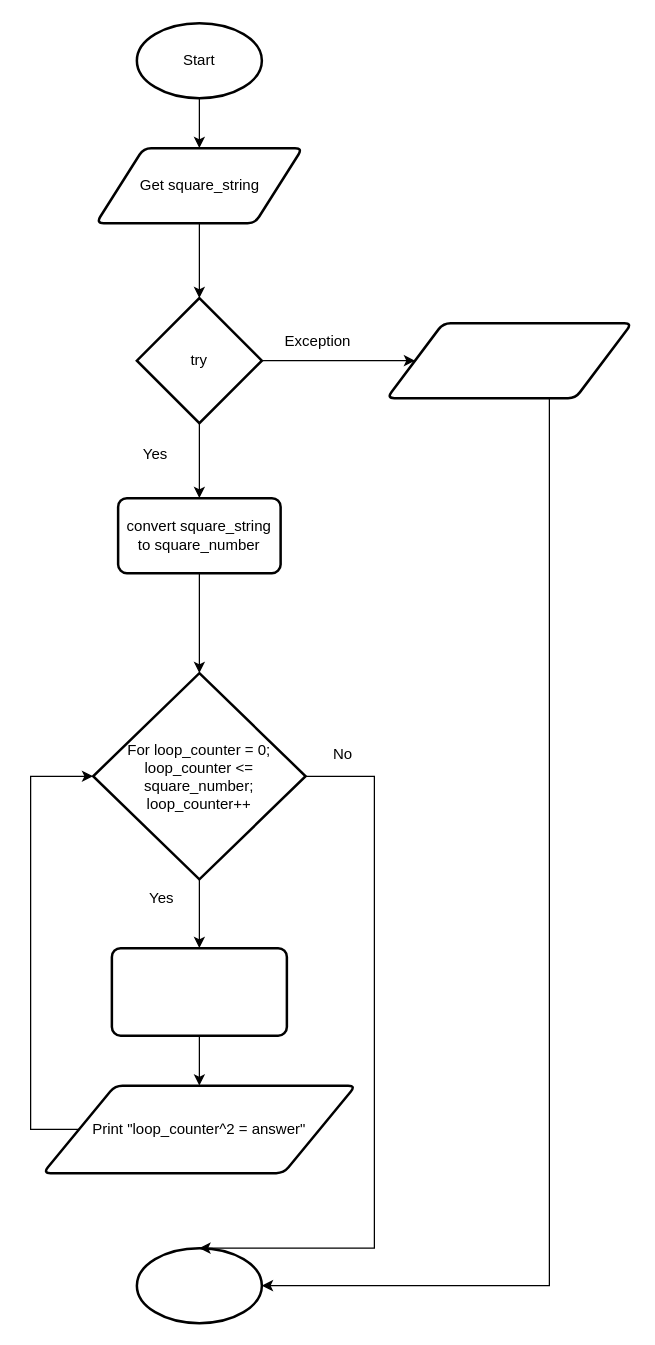
Image size: 655x1345. Some labels were removed from this diagram. The centre of each missing label's shape, as x and y in pixels:
answer = pow(loop_counter, 2): point (199, 991)
Print "Invalid number!": point (508, 360)
Stop: point (198, 1285)
